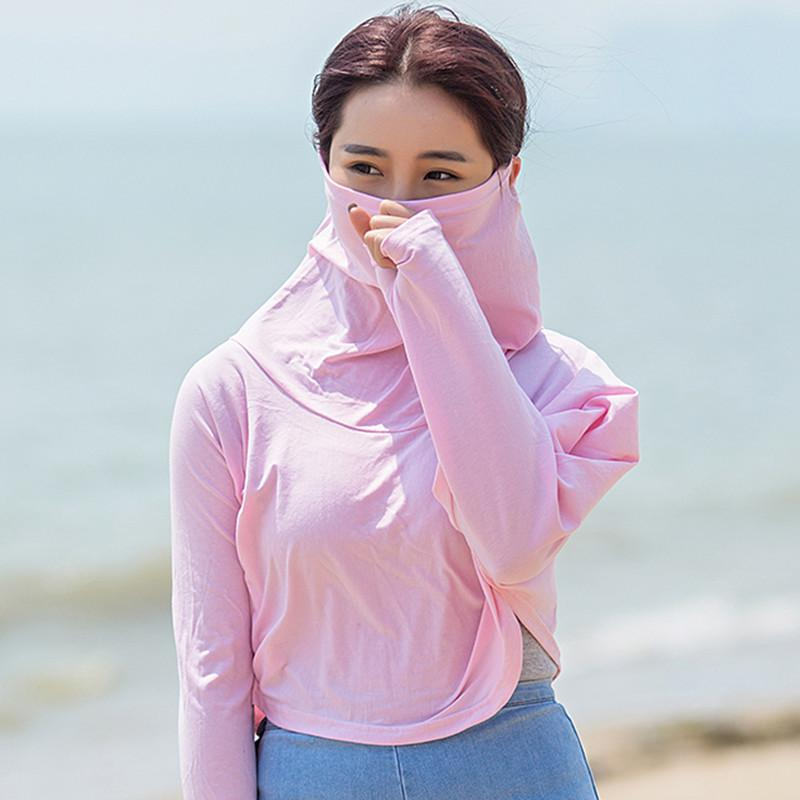OK: (326, 111, 505, 290)
